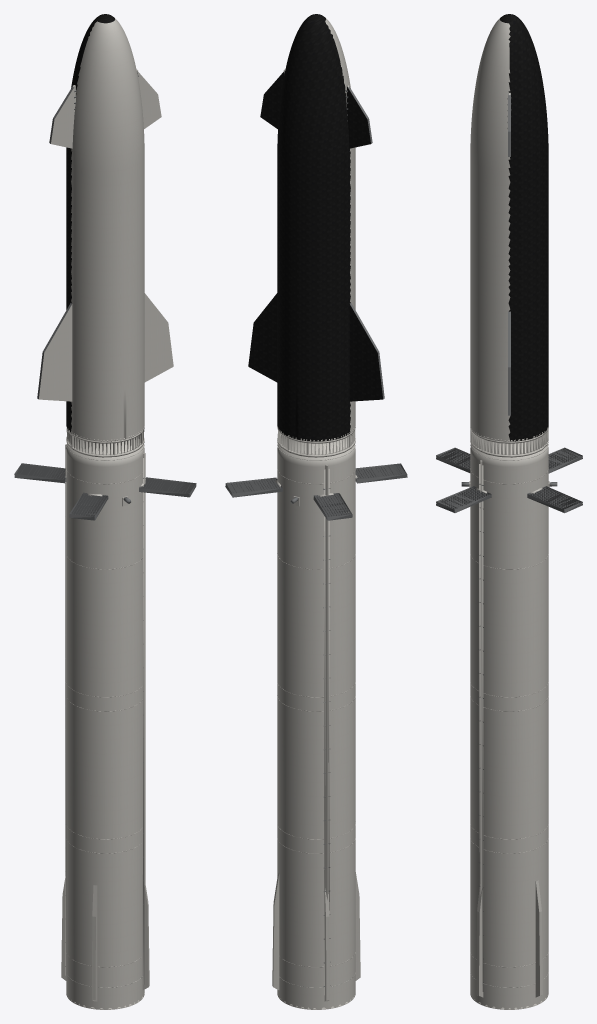
Rendered from starship_stack_lod1.glb.
3 renders of one model, left to right at view 1: azimuth 30°, elevation 25°; view 2: azimuth 150°, elevation 25°; view 3: azimuth 270°, elevation 25°, orthographic.
Parts seen in each view (by area): view 1: BoosterHull, ShipHull, FlapSkin_AL, FlapSkin_AR, FlapSkin_FL, VentedInterstage, Grid_3, Grid_1, FlapSkin_FR, Grid_2; view 2: BoosterHull, ShipHull, FlapSkin_AL, FlapSkin_AR, FlapSkin_FL, VentedInterstage, Grid_0, Grid_2, FlapSkin_FR, Grid_1; view 3: BoosterHull, ShipHull, VentedInterstage, Grid_0, Grid_3, Grid_2, Grid_1.
Boxes of the visible parts, <box> form: BoosterHull: <box>61,436,149,1009</box>; ShipHull: <box>66,14,144,441</box>; FlapSkin_AL: <box>37,303,72,401</box>; FlapSkin_AR: <box>144,293,173,382</box>; FlapSkin_FL: <box>49,85,76,148</box>; VentedInterstage: <box>66,427,144,457</box>; Grid_3: <box>139,477,196,497</box>; Grid_1: <box>14,463,66,483</box>; FlapSkin_FR: <box>136,70,161,128</box>; Grid_2: <box>69,492,108,520</box>; BoosterHull: <box>272,435,360,1009</box>; ShipHull: <box>277,14,355,441</box>; FlapSkin_AL: <box>349,303,384,401</box>; FlapSkin_AR: <box>248,293,277,382</box>; FlapSkin_FL: <box>345,85,372,148</box>; VentedInterstage: <box>277,427,355,457</box>; Grid_0: <box>225,477,282,497</box>; Grid_2: <box>355,463,407,483</box>; FlapSkin_FR: <box>260,69,285,128</box>; Grid_1: <box>313,493,352,520</box>; BoosterHull: <box>470,437,548,1009</box>; ShipHull: <box>470,14,548,441</box>; VentedInterstage: <box>470,427,548,457</box>; Grid_0: <box>527,486,582,513</box>; Grid_3: <box>436,486,491,512</box>; Grid_2: <box>436,447,470,472</box>; Grid_1: <box>548,447,582,473</box>.
Size of the model in its own units: 17.9 by 124 by 16.88.
Materials: 4 (2 with a texture image).
